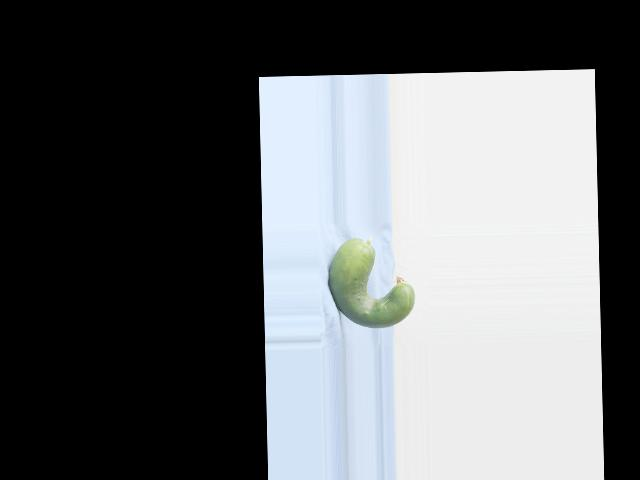cucumber: (327, 236, 415, 329)
